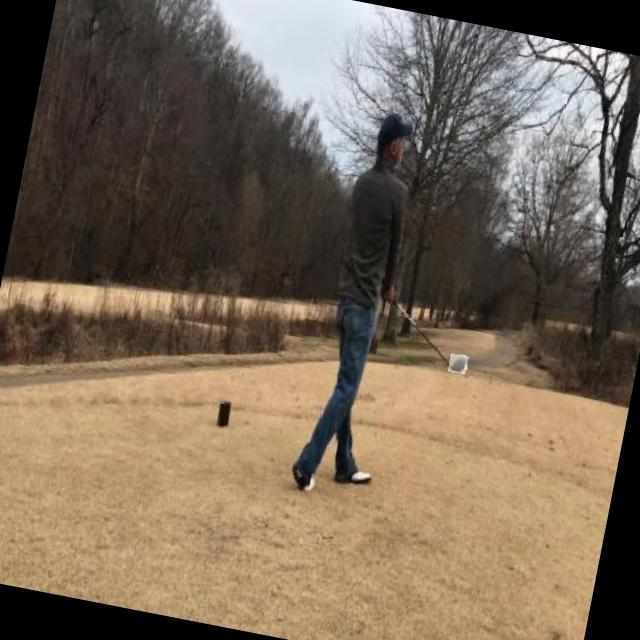club head: (448, 354, 469, 375)
